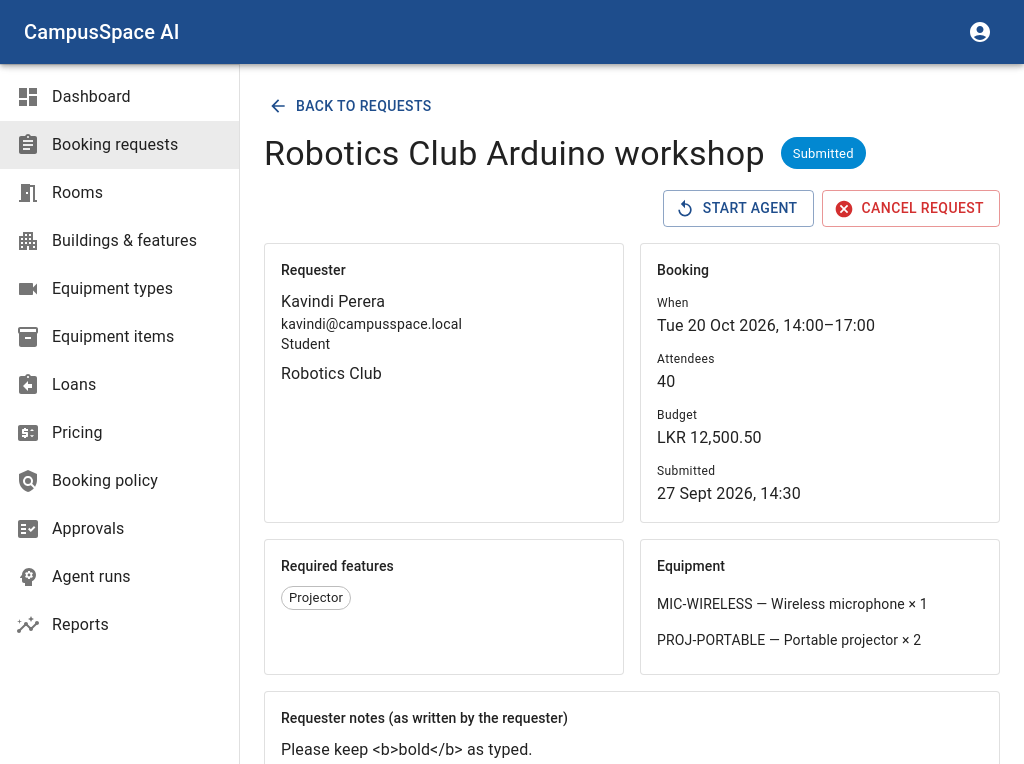
BookingRequestDetailPage › cancellation › closes with Keep request and sends nothing
What coordinates should you click on to do the following:
click the button "Cancel request"
I would click on:
 (911, 209)
Its box is [822,190,1000,227].
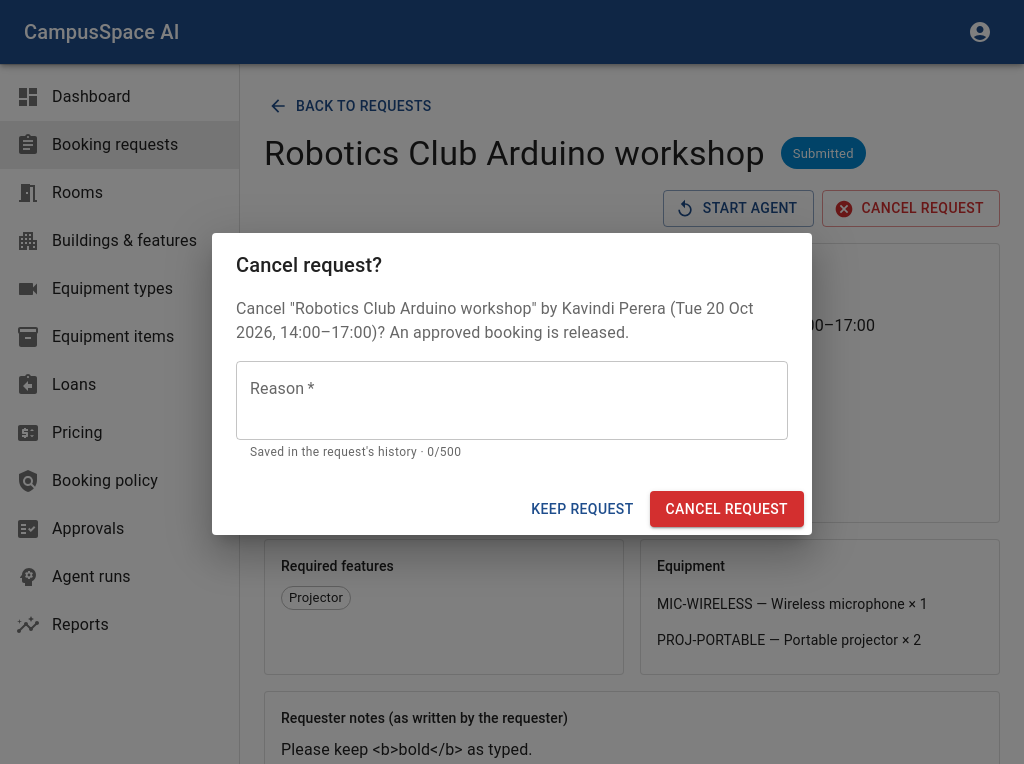
What coordinates should you click on to do the following:
click the button "Keep request"
I would click on:
 (582, 509)
Its box is [523,491,642,527].
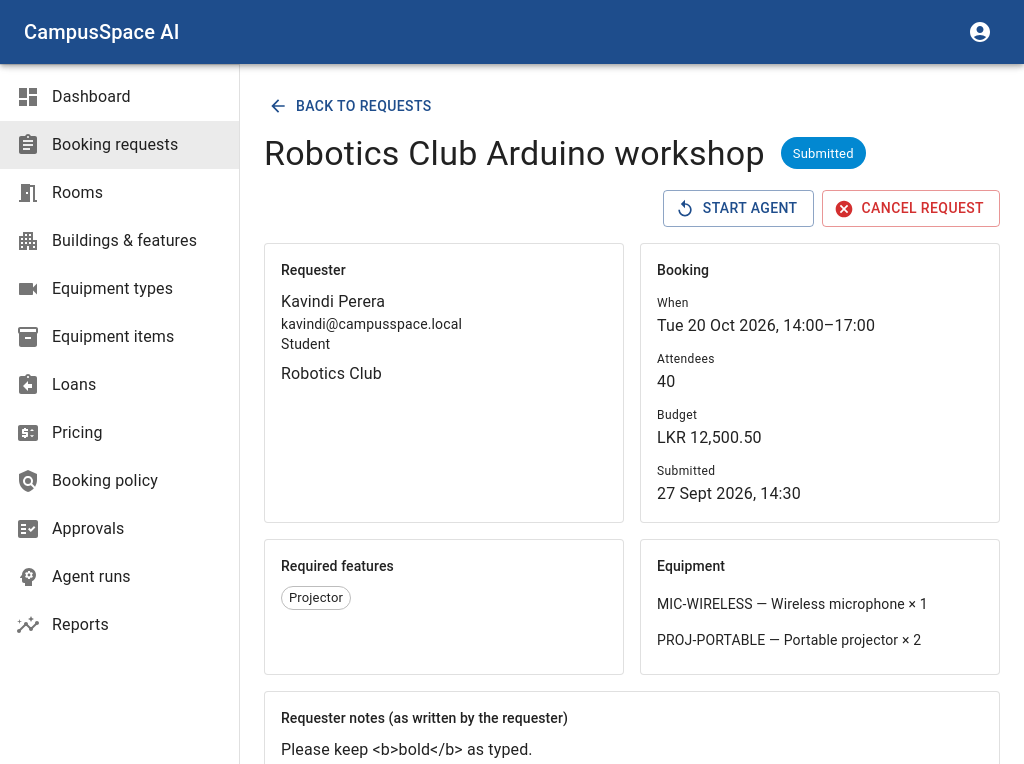
Result: the dialog is gone
